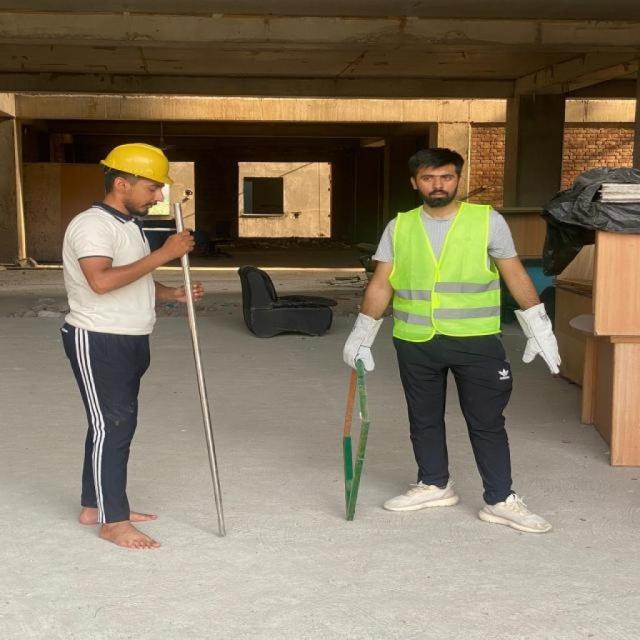Gloves-Detection: (502, 309, 562, 380), (340, 301, 378, 367)
